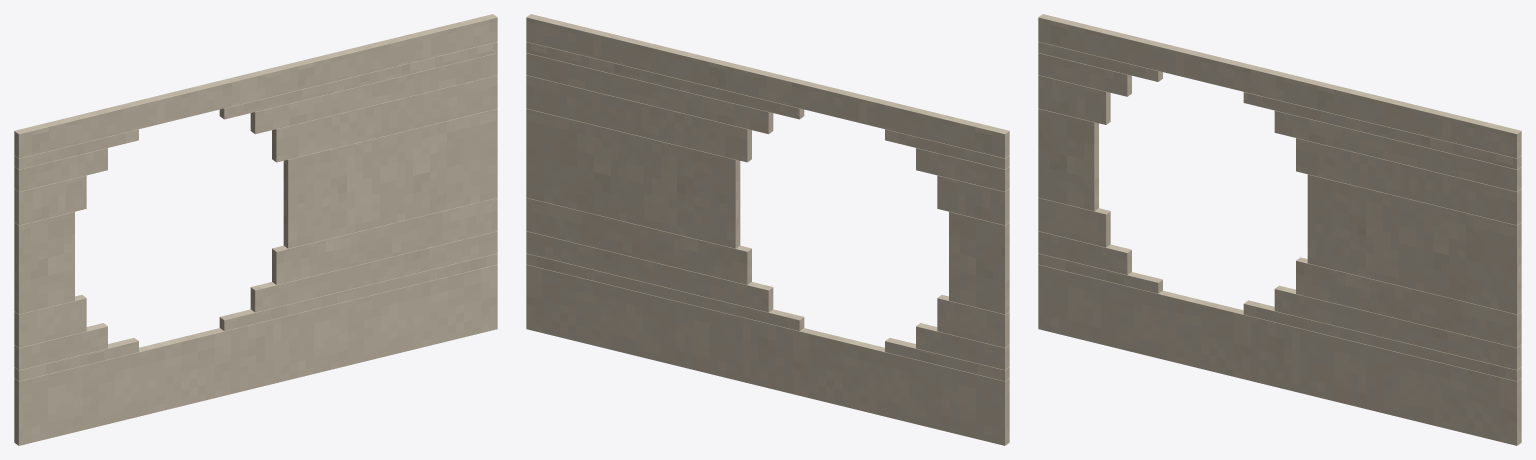
Rendered from FrontPanel.glb.
The picture shows the model from 3 angles, left to right: view 1: azimuth 30°, elevation 25°; view 2: azimuth 150°, elevation 25°; view 3: azimuth 330°, elevation 25°; orthographic projection.
Visible parts, largest first — view 1: FrontPanel; view 2: FrontPanel; view 3: FrontPanel.
Part boxes in pixels (<box>): FrontPanel: <box>14,14,497,445</box>; FrontPanel: <box>526,14,1009,445</box>; FrontPanel: <box>1038,14,1521,445</box>.
Bounding box in the file's own units: 2.25 × 1.4 × 0.038.
Materials: 1 (1 with a texture image).
